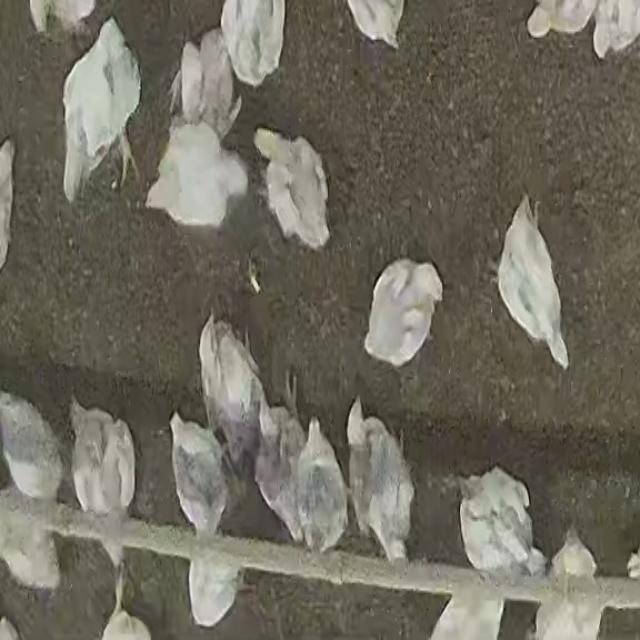chicken: (58, 12, 145, 211), (489, 194, 578, 374), (138, 118, 251, 230), (344, 396, 415, 564), (190, 310, 265, 466), (449, 462, 545, 582), (251, 124, 335, 258), (358, 256, 447, 367), (250, 383, 310, 546), (69, 396, 140, 526), (168, 411, 230, 545), (168, 32, 242, 139), (296, 415, 351, 553), (0, 392, 65, 507), (219, 0, 285, 87)
